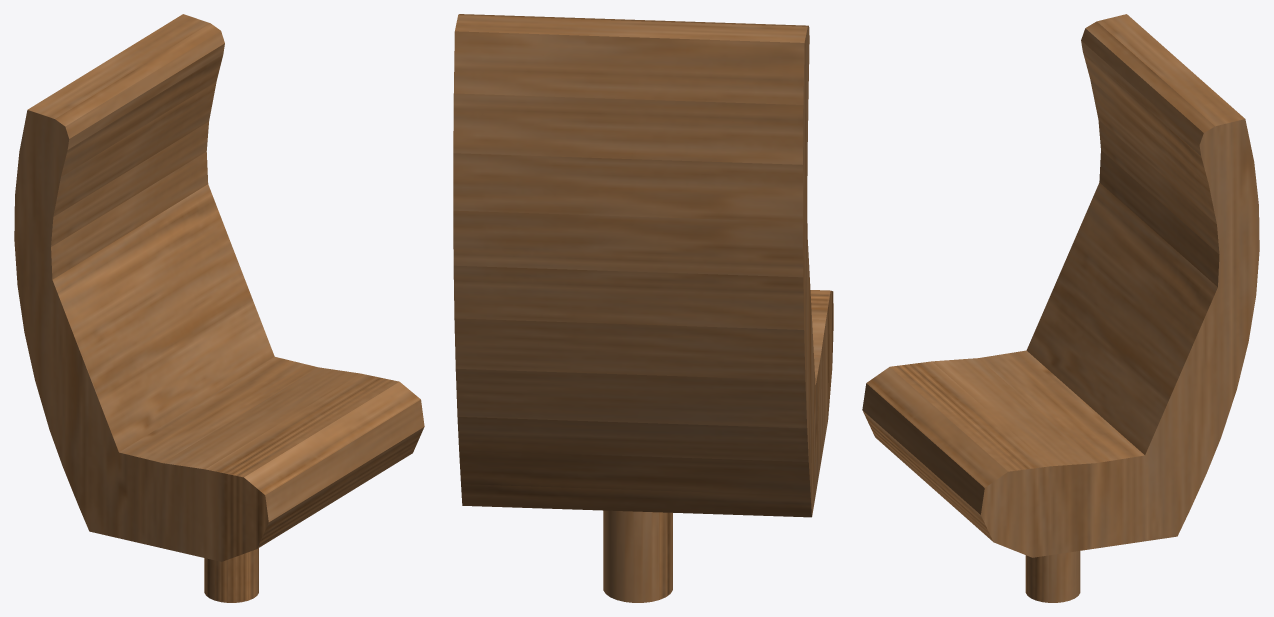
The model's file is Chair02.glb.
3 views of the same model, side by side, from view 1: azimuth 30°, elevation 25°; view 2: azimuth 150°, elevation 25°; view 3: azimuth 270°, elevation 25° (orthographic). The views are drawn at different scales.
Visible parts, largest first — view 1: Geom3D_.435; view 2: Geom3D_.435; view 3: Geom3D_.435.
Part boxes in pixels (x1,y1,x2,y2): Geom3D_.435: (14,14,424,602); Geom3D_.435: (453,14,833,602); Geom3D_.435: (862,14,1259,602).
Size of the model in its own units: 0.6929 by 0.9938 by 0.7218.
1 material, 1 textured.
